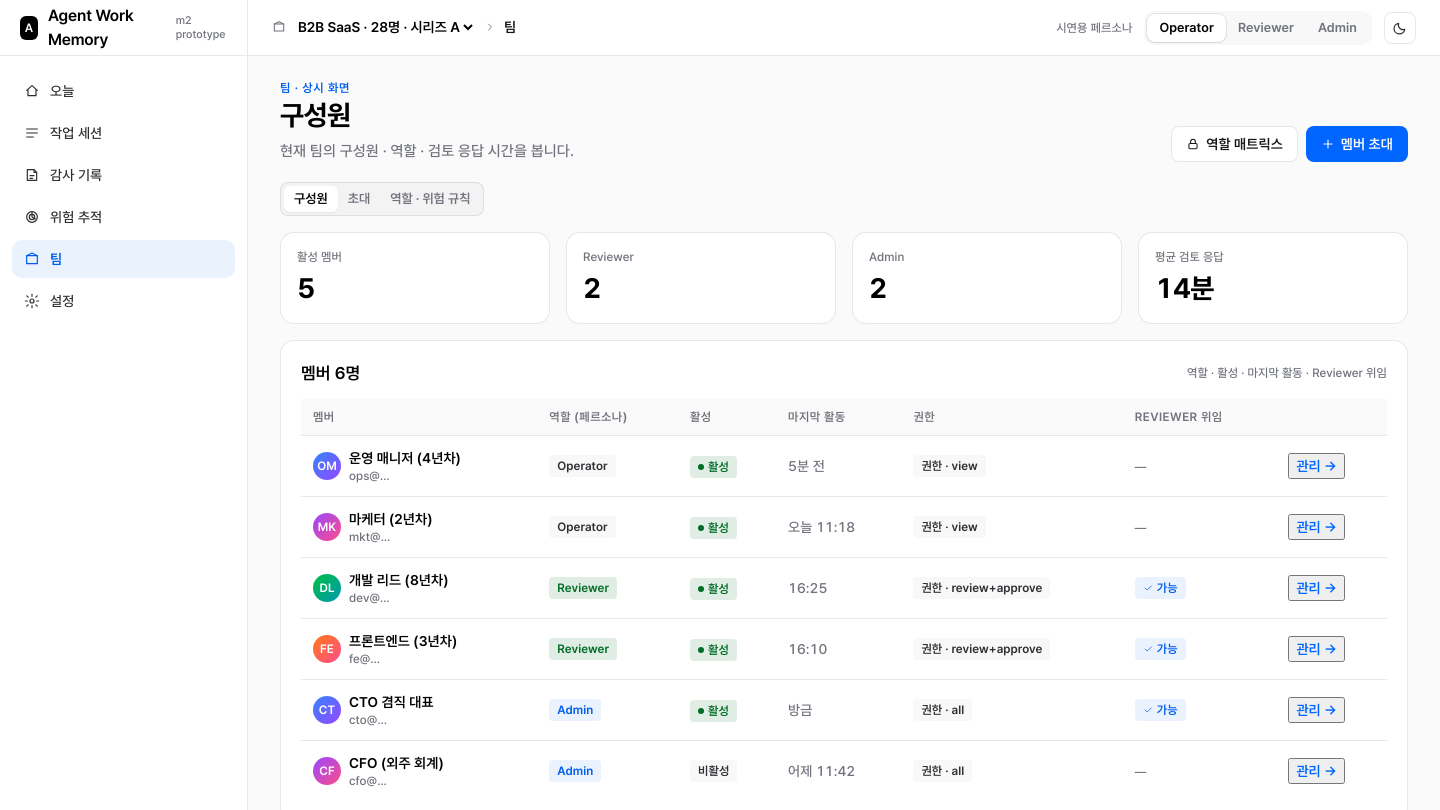
Scenario: AppShell + product IA › Workspace tab buttons navigate via query param
What coordinates should you click on to do the following:
click the tab "역할 · 위험 규칙"
I would click on:
 (430, 199)
Its box is [380,186,480,212].
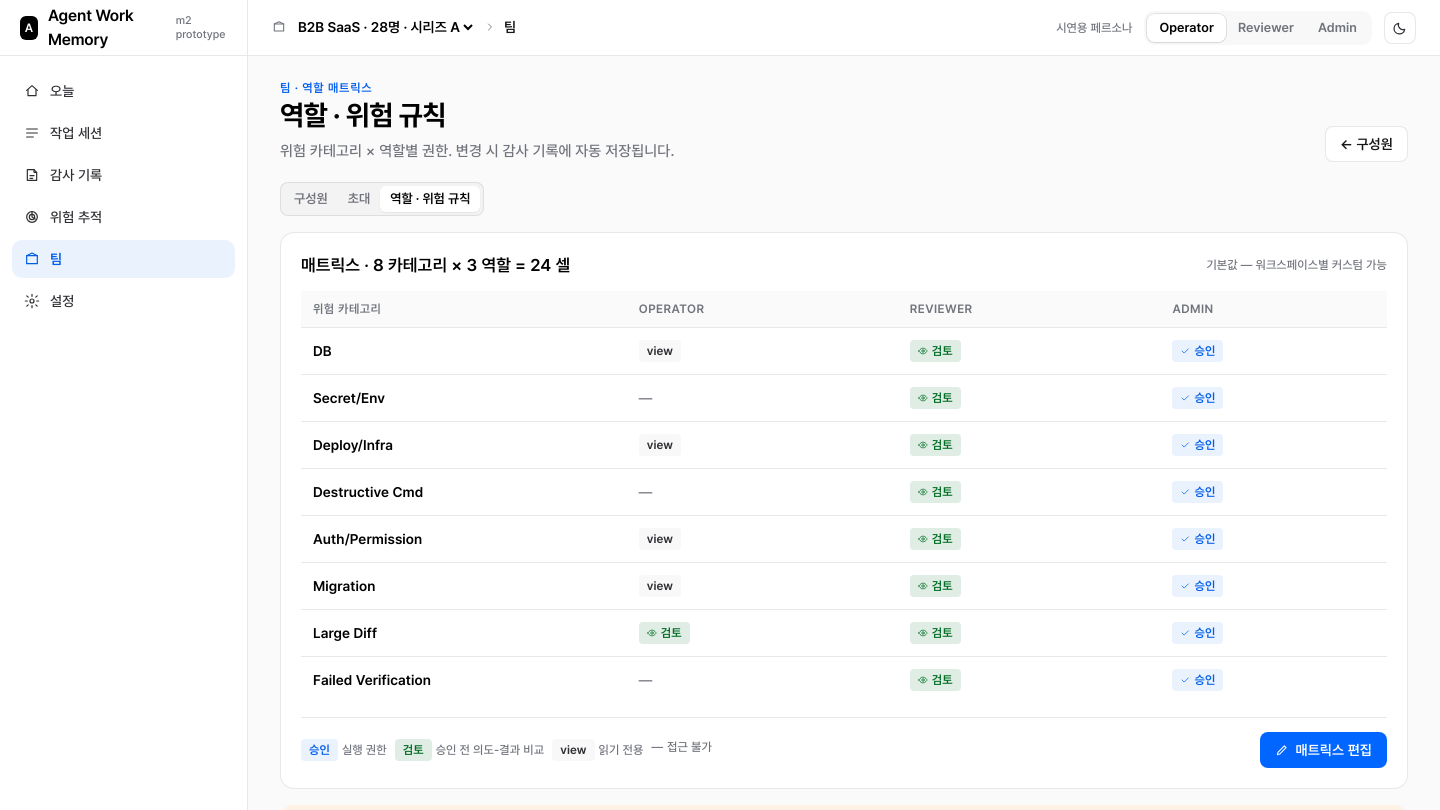
Expected: the heading "역할 · 위험 규칙" is shown, [280,98,446,132]
What coordinates should you click on to do the following:
click the button "← 구성원"
I would click on:
 (1367, 144)
Its box is [1325,126,1408,162].
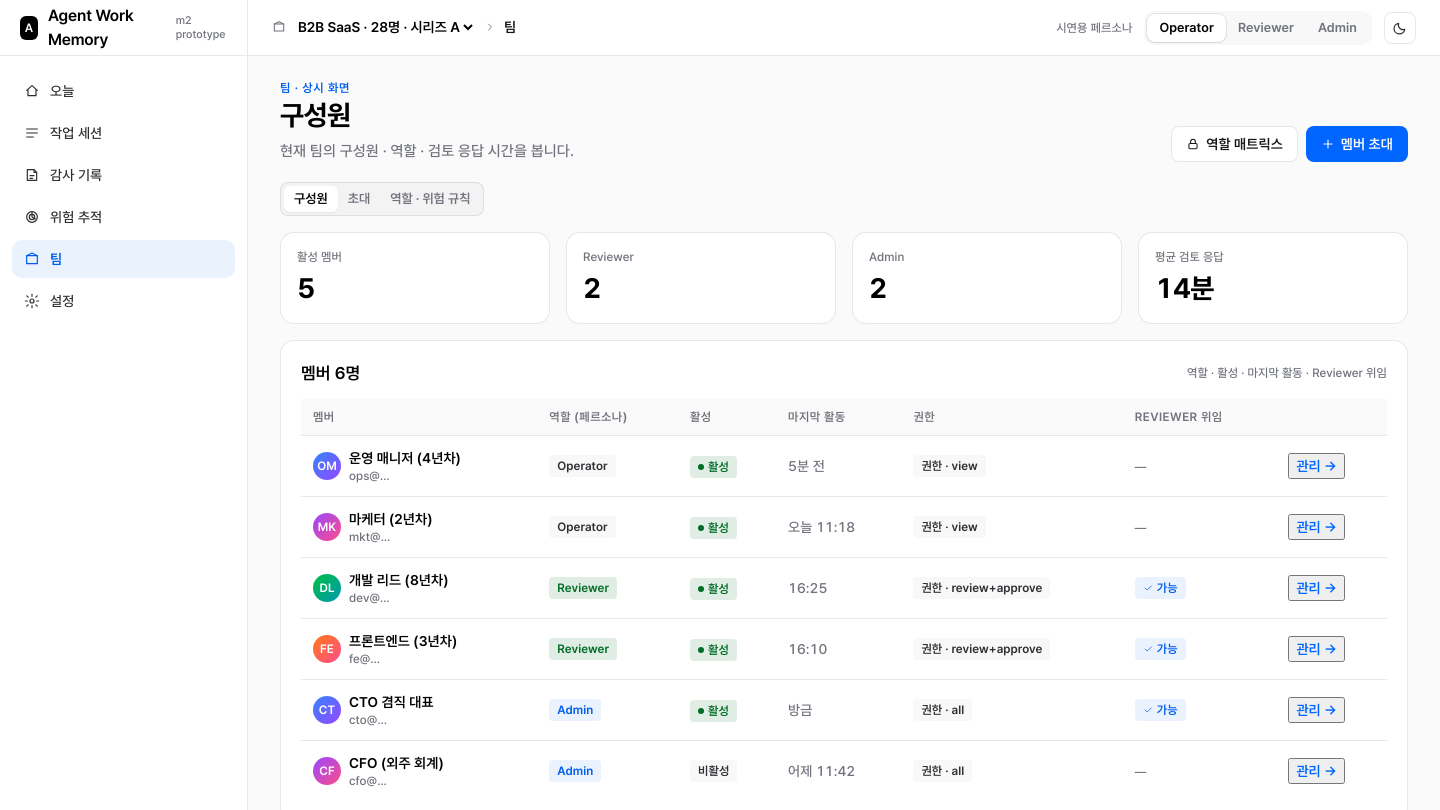
Expected: the heading "구성원" is shown, [280,98,351,132]
